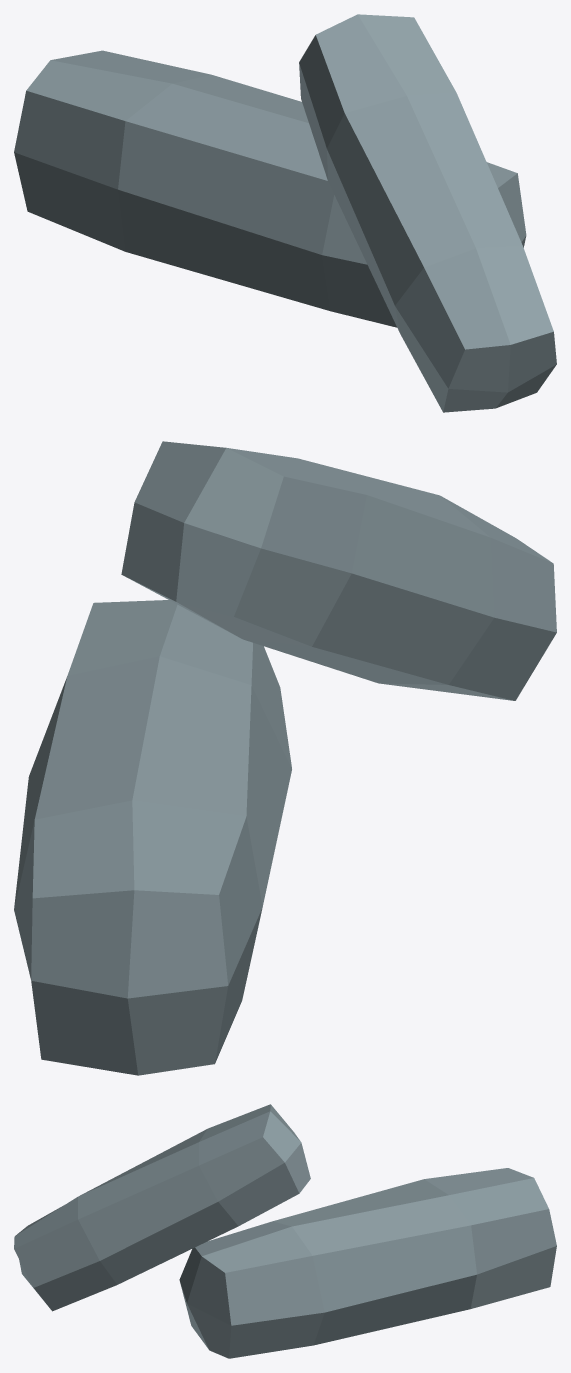
The model's file is Stonehenge_P5.obj.
3 renders of one model, top to bottom at view 1: azimuth 30°, elevation 25°; view 2: azimuth 150°, elevation 25°; view 3: azimuth 270°, elevation 25°, orthographic. The views are drawn at different scales.
Parts seen in each view (by area): view 1: Cube.012_Cube.013, Cube.013_Cube.014; view 2: Cube.012_Cube.013, Cube.013_Cube.014; view 3: Cube.012_Cube.013, Cube.013_Cube.014.
Part boxes in pixels (x1=…): Cube.012_Cube.013: x1=14, y1=50, x2=526, y2=327; Cube.013_Cube.014: x1=299, y1=14, x2=556, y2=412; Cube.012_Cube.013: x1=14, y1=600, x2=291, y2=1075; Cube.013_Cube.014: x1=121, y1=441, x2=556, y2=700; Cube.012_Cube.013: x1=179, y1=1168, x2=556, y2=1358; Cube.013_Cube.014: x1=14, y1=1104, x2=310, y2=1311.
Bounding box in the file's own units: 40.41 × 38.08 × 85.82.
Materials: 1 (1 with a texture image).
